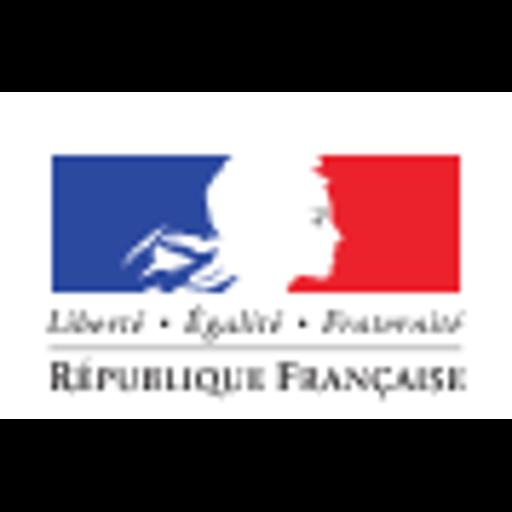DGI -French Tax Authority-: (0, 92, 512, 419)
